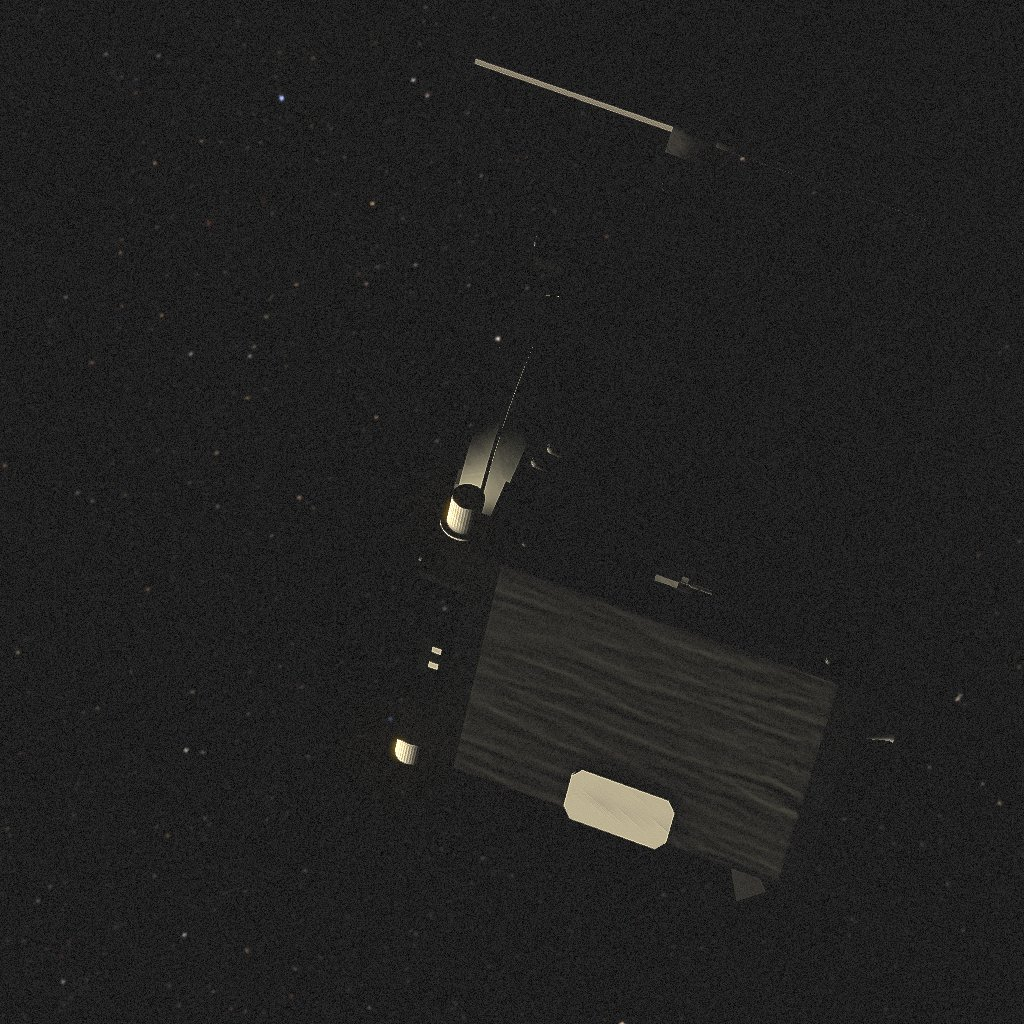proba_3_csc: (382, 56, 961, 847)
